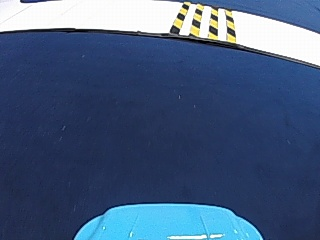bump: (166, 3, 237, 38)
